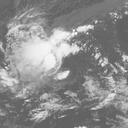cyclone: (12, 27, 69, 84)
